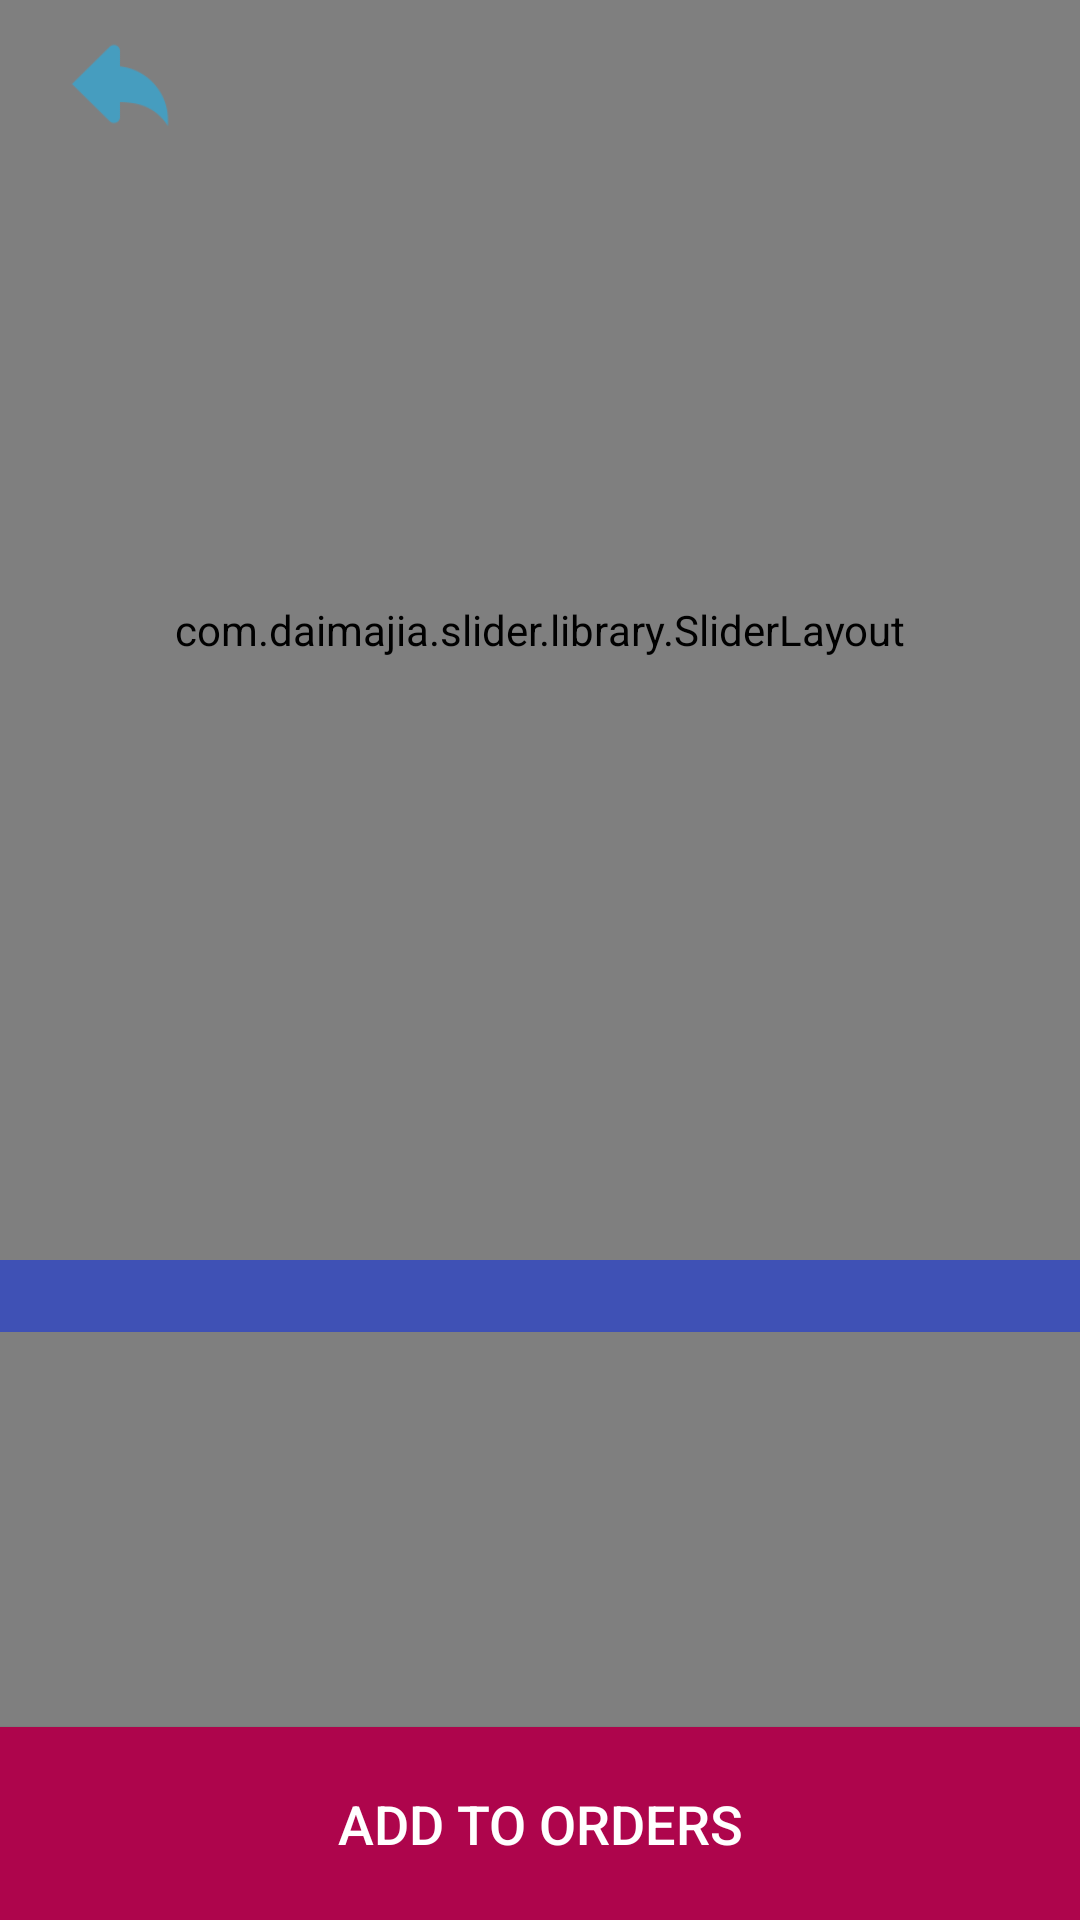

Point at icon controls on the screen. Image size 1080 x 1920, points as point (x, y).
bback: point (120, 85)
